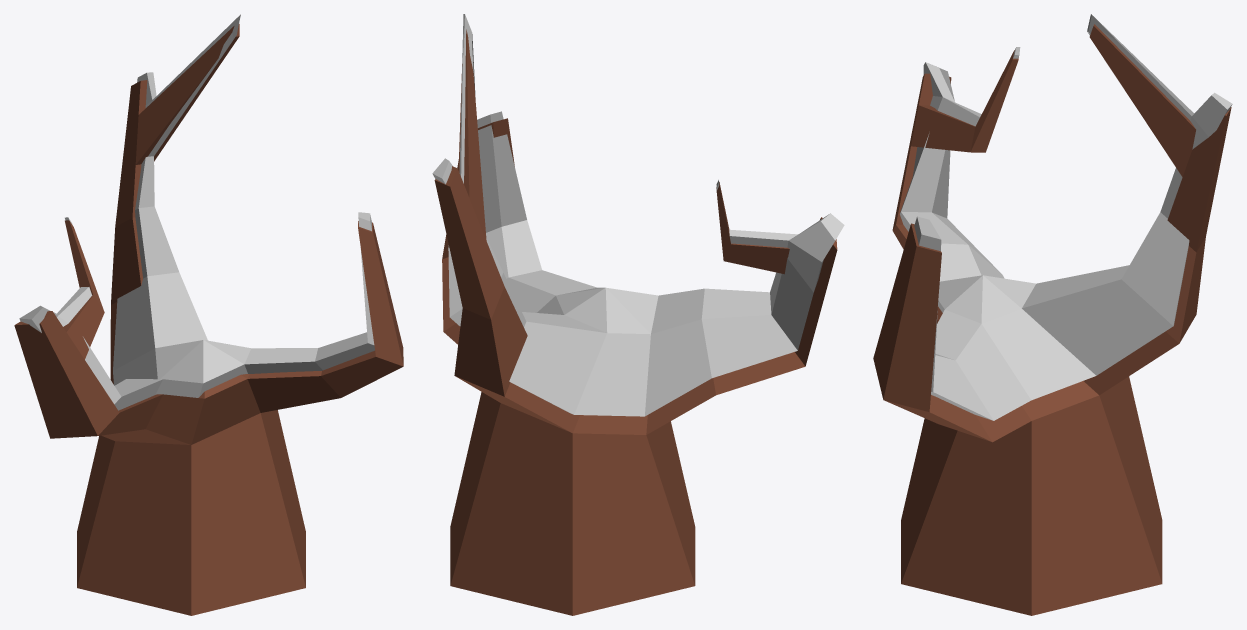
The model's file is bush_2_winter_vc.fbx.
3 views of the same model, side by side, from view 1: azimuth 30°, elevation 25°; view 2: azimuth 150°, elevation 25°; view 3: azimuth 270°, elevation 25° (orthographic). The views are drawn at different scales.
Parts seen in each view (by area): view 1: bush_2_winter_vc; view 2: bush_2_winter_vc; view 3: bush_2_winter_vc.
Part boxes in pixels (box(x1,y1,x2,y2)): bush_2_winter_vc: box(14, 14, 403, 615); bush_2_winter_vc: box(432, 14, 844, 615); bush_2_winter_vc: box(873, 14, 1232, 615).
Bounding box in the file's own units: 0.6116 × 0.7828 × 0.4397.
